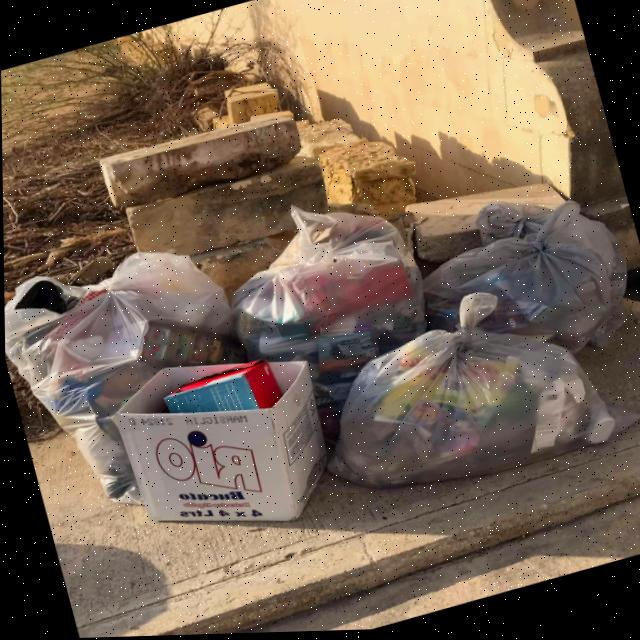Other: (104, 332, 347, 562)
Recycled Waste -Grey or Green Bag-: (289, 259, 640, 522), (4, 231, 269, 532), (209, 181, 457, 467), (404, 174, 640, 394)
